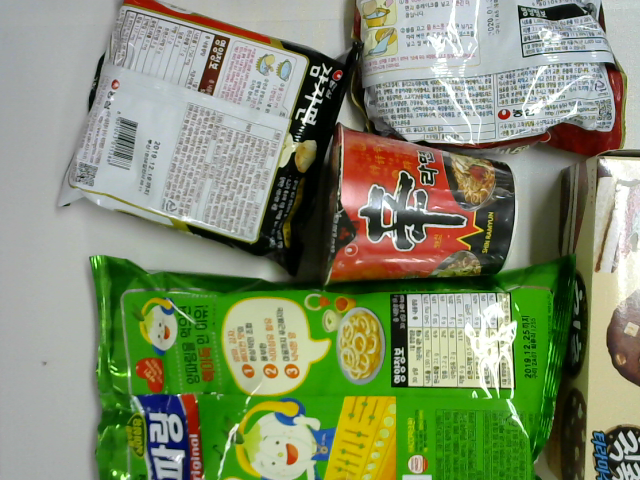Chicchok_Tiramisu: (554, 146, 638, 480)
Oninon_Ring: (87, 246, 578, 480)
Potato: (56, 1, 364, 288)
Sichuan_Chapaghetti: (342, 1, 632, 162)
Sinramen_small: (312, 115, 519, 295)
